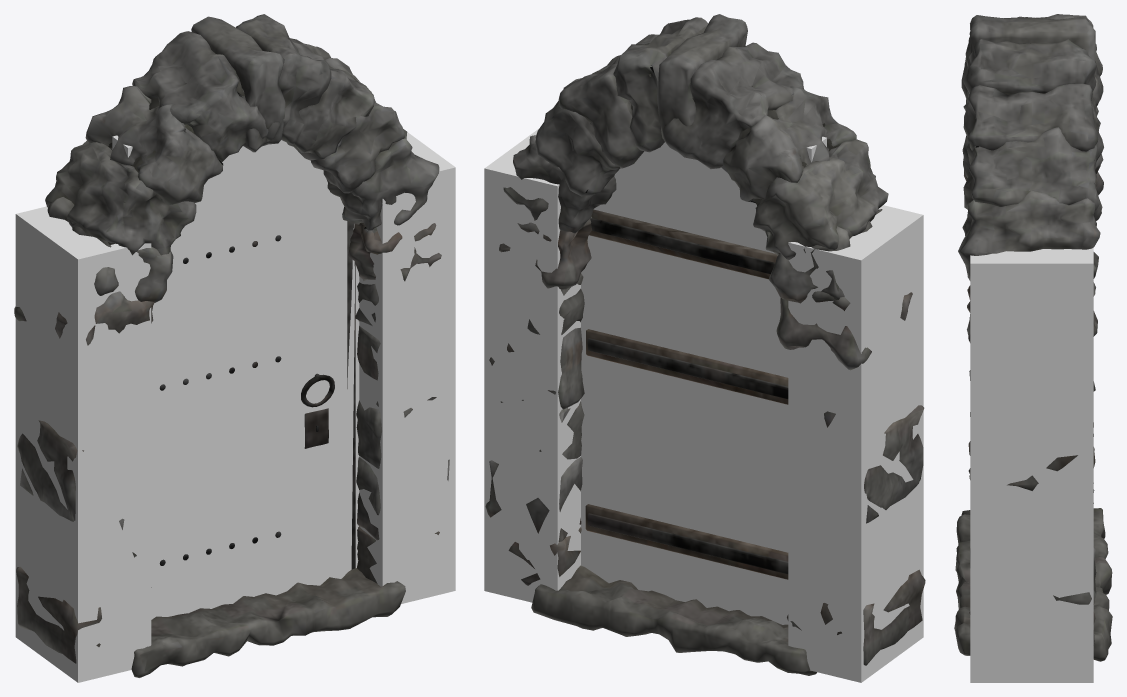
File: door_gothic.glb
The picture shows the model from 3 angles, left to right: view 1: azimuth 30°, elevation 25°; view 2: azimuth 150°, elevation 25°; view 3: azimuth 270°, elevation 25°; orthographic projection.
Parts seen in each view (by area): view 1: col_door_leaf, frame, col_door_jamb_l, col_door_jamb_r, door; view 2: frame, col_door_leaf, col_door_jamb_l, col_door_jamb_r, door; view 3: col_door_jamb_r, frame.
Boxes of the visible parts, bbox=[...] form: col_door_leaf: bbox=[112, 135, 359, 619]; frame: bbox=[14, 14, 449, 677]; col_door_jamb_l: bbox=[15, 206, 151, 682]; col_door_jamb_r: bbox=[359, 132, 455, 603]; door: bbox=[159, 221, 355, 569]; frame: bbox=[485, 14, 925, 675]; col_door_leaf: bbox=[581, 136, 826, 624]; col_door_jamb_l: bbox=[788, 205, 923, 682]; col_door_jamb_r: bbox=[484, 128, 580, 602]; door: bbox=[585, 209, 788, 579]; col_door_jamb_r: bbox=[970, 247, 1093, 682]; frame: bbox=[954, 14, 1112, 661].
Bounding box in the file's own units: 2.01 × 2.92 × 0.7192.
1 material, 1 textured.
